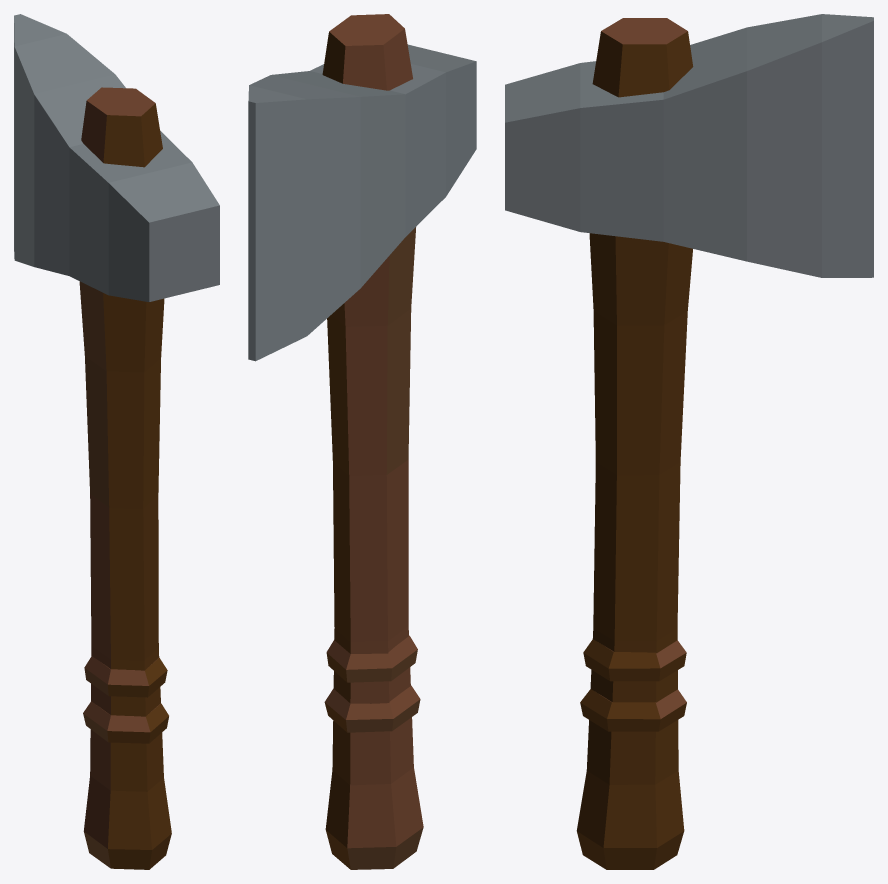
File: axe_c.glb
3 renders of one model, left to right at view 1: azimuth 30°, elevation 25°; view 2: azimuth 150°, elevation 25°; view 3: azimuth 270°, elevation 25°, orthographic. The views are drawn at different scales.
Parts seen in each view (by area): view 1: handle, head; view 2: handle, head; view 3: head, handle.
Boxes of the visible parts, x1,y1,x2,y2 form: handle: (79,87,171,869); head: (14,14,219,301); handle: (322,14,423,869); head: (248,44,476,361); head: (505,14,873,277); handle: (576,18,693,869).
Bounding box in the file's own units: 0.066 × 0.553 × 0.221.
